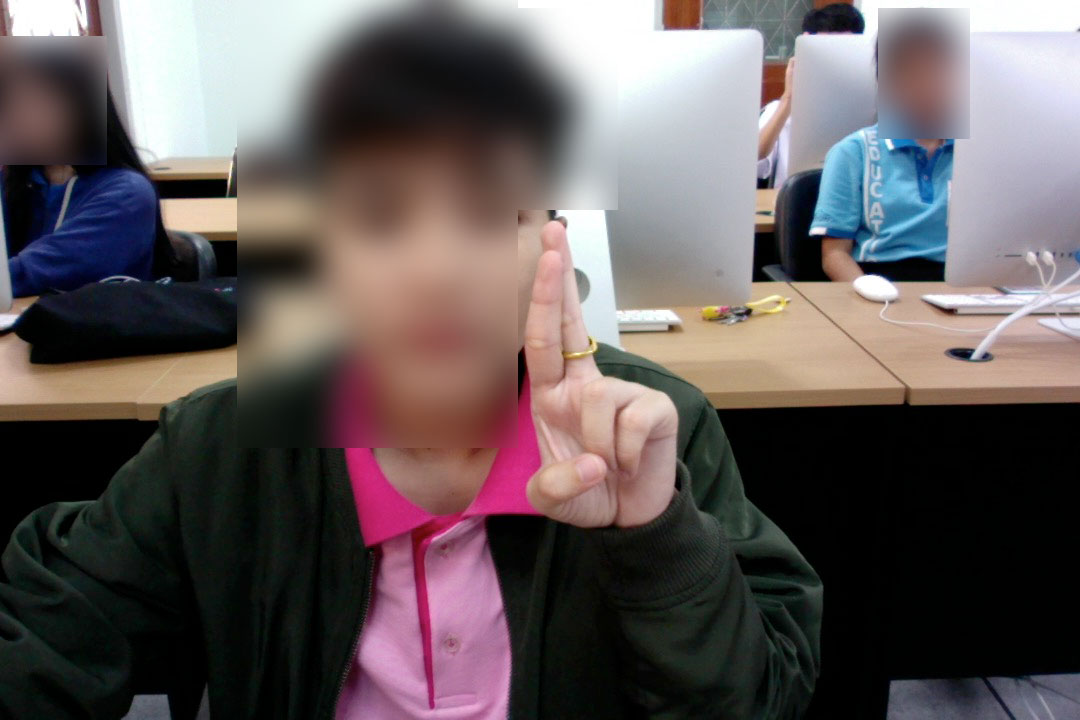rao: (515, 210, 695, 544)
